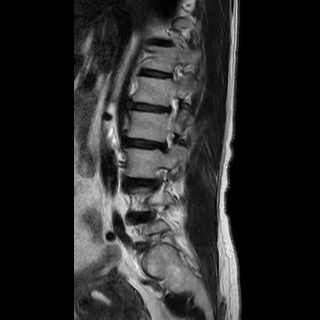RFS0: (156, 123, 183, 158)
